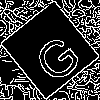G: (25, 25, 85, 87)
